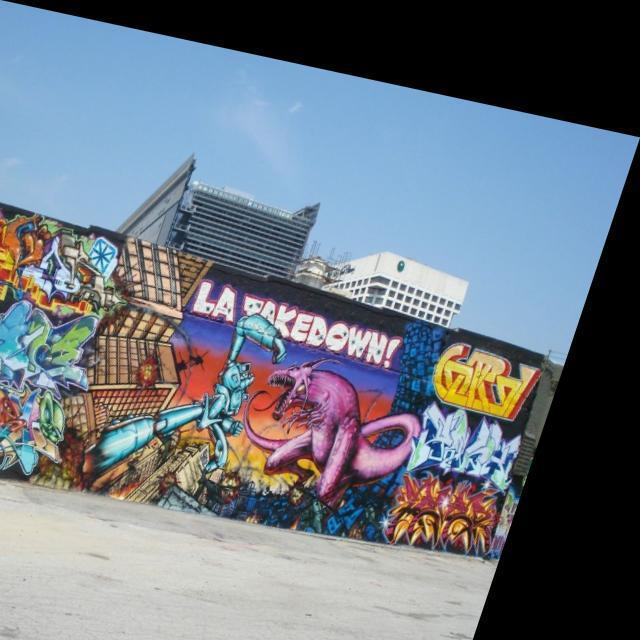-: (93, 282, 310, 506), (237, 324, 456, 524), (191, 260, 423, 350), (0, 190, 156, 313), (0, 278, 130, 392), (0, 356, 104, 481), (423, 372, 552, 464), (442, 306, 565, 397), (405, 446, 534, 532)
